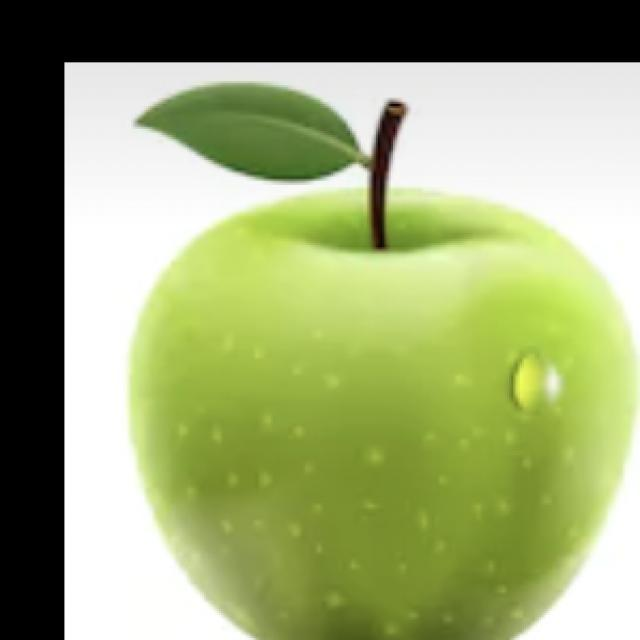Fresh Apple: (123, 193, 640, 640)
